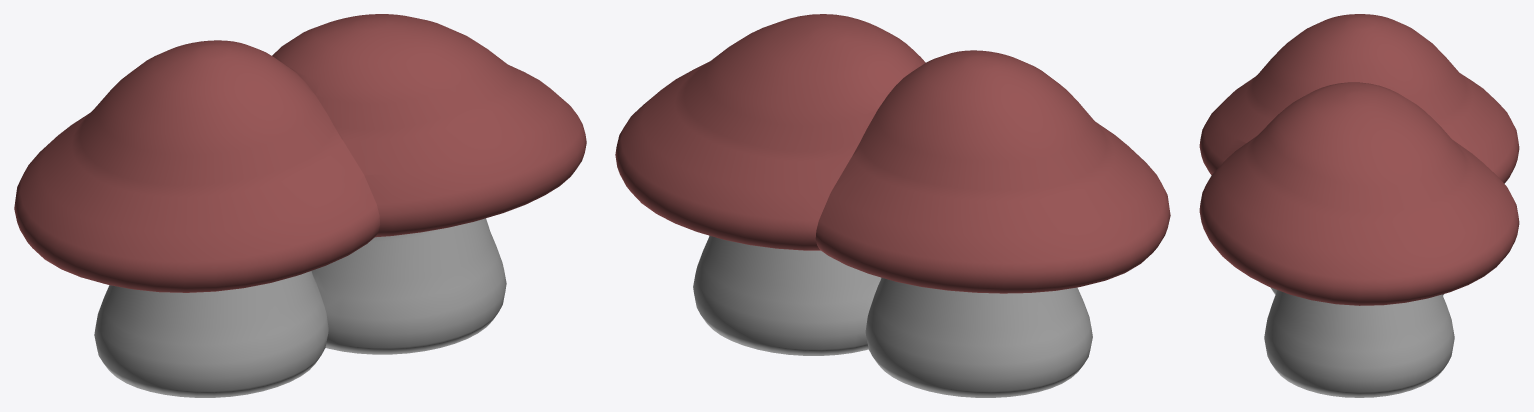
Rendered from HongoDoble3_Mod.fbx.
3 views of the same model, side by side, from view 1: azimuth 30°, elevation 25°; view 2: azimuth 150°, elevation 25°; view 3: azimuth 270°, elevation 25° (orthographic). The views are drawn at different scales.
Parts seen in each view (by area): view 1: HongoDoble3_Mod; view 2: HongoDoble3_Mod; view 3: HongoDoble3_Mod.
Boxes of the visible parts, x1,y1,x2,y2 form: HongoDoble3_Mod: [14, 14, 586, 397]; HongoDoble3_Mod: [615, 14, 1170, 397]; HongoDoble3_Mod: [1199, 14, 1519, 397].
Size of the model in its own units: 2218 by 1226 by 1358.
